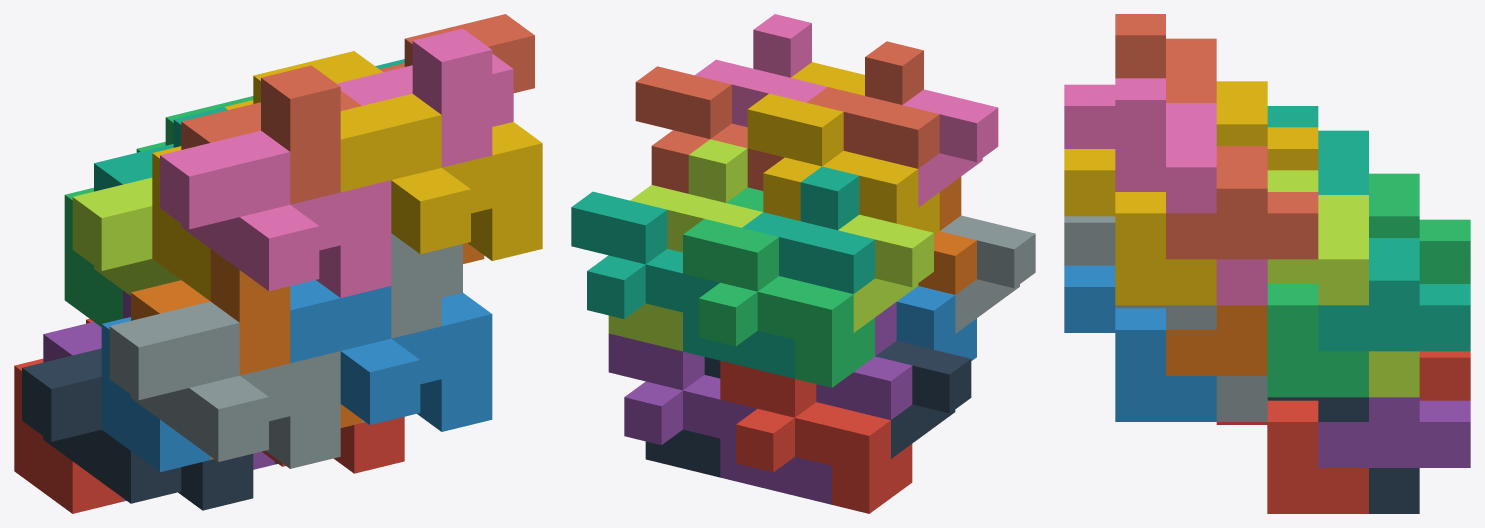
The model's file is tiling.obj.
The picture shows the model from 3 angles, left to right: view 1: azimuth 30°, elevation 25°; view 2: azimuth 150°, elevation 25°; view 3: azimuth 270°, elevation 25°; orthographic projection. The views are drawn at different scales.
Visible parts, largest first — view 1: copy_2_domain_4, copy_2_domain_2, copy_2_domain_8, copy_2_domain_6, copy_2_domain_1, copy_3_domain_8, copy_3_domain_4, copy_3_domain_2, copy_2_domain_3, copy_1_domain_4, copy_3_domain_6, copy_1_domain_2 (+7 smaller); view 2: copy_1_domain_3, copy_1_domain_1, copy_1_domain_4, copy_1_domain_7, copy_3_domain_3, copy_1_domain_5, copy_3_domain_4, copy_1_domain_8, copy_3_domain_7, copy_3_domain_1, copy_3_domain_8, copy_2_domain_4 (+8 smaller); view 3: copy_3_domain_8, copy_1_domain_8, copy_2_domain_8, copy_1_domain_7, copy_2_domain_6, copy_3_domain_7, copy_1_domain_5, copy_2_domain_5, copy_2_domain_7, copy_1_domain_3, copy_3_domain_4, copy_1_domain_6 (+7 smaller).
Boxes of the visible parts, x1,y1,x2,y2 form: copy_2_domain_4: (160,130,391,297); copy_2_domain_2: (109,301,340,468); copy_2_domain_8: (340,93,542,260); copy_2_domain_6: (290,280,492,431); copy_2_domain_1: (22,348,253,510); copy_3_domain_8: (337,28,513,167); copy_3_domain_4: (181,65,361,204); copy_3_domain_2: (131,249,290,459); copy_2_domain_3: (72,177,180,295); copy_1_domain_4: (152,51,382,301); copy_3_domain_6: (362,233,462,422); copy_1_domain_2: (101,317,210,472); copy_1_domain_3: (683,219,874,387); copy_1_domain_1: (720,360,912,513); copy_1_domain_4: (747,93,939,234); copy_1_domain_7: (571,191,720,360); copy_3_domain_3: (720,166,874,378); copy_1_domain_5: (608,333,757,486); copy_3_domain_4: (807,41,939,168); copy_1_domain_8: (635,66,784,193); copy_3_domain_7: (608,139,762,351); copy_3_domain_1: (757,302,912,504); copy_3_domain_8: (695,14,827,127); copy_2_domain_4: (903,89,998,207); copy_3_domain_8: (1115,78,1267,305); copy_1_domain_8: (1166,146,1318,259); copy_2_domain_8: (1064,149,1216,305); copy_1_domain_7: (1318,238,1470,351); copy_2_domain_6: (1064,265,1216,421); copy_3_domain_7: (1267,170,1419,397); copy_1_domain_5: (1318,397,1470,467); copy_2_domain_5: (1216,400,1368,513); copy_2_domain_7: (1267,284,1368,397); copy_1_domain_3: (1369,173,1470,283); copy_3_domain_4: (1115,14,1216,102); copy_1_domain_6: (1166,305,1267,375).
Bounding box in the file's own units: 9 × 9 × 8.
